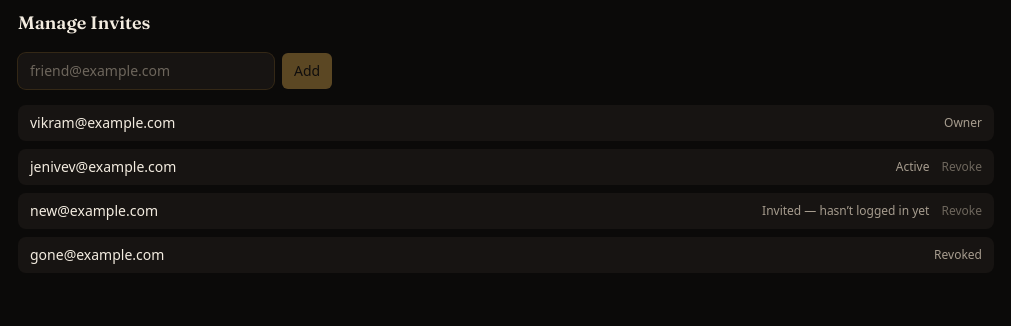
Test: ManageInvites › shows a resend message when Add targets an already-pending invite
Expected: the text "vikram@example.com" is shown, x1=30 y1=113 x2=175 y2=133
Type "new@example.com" into the field named "Email to invite" at (146, 71), box x1=18 y1=53 x2=274 y2=89
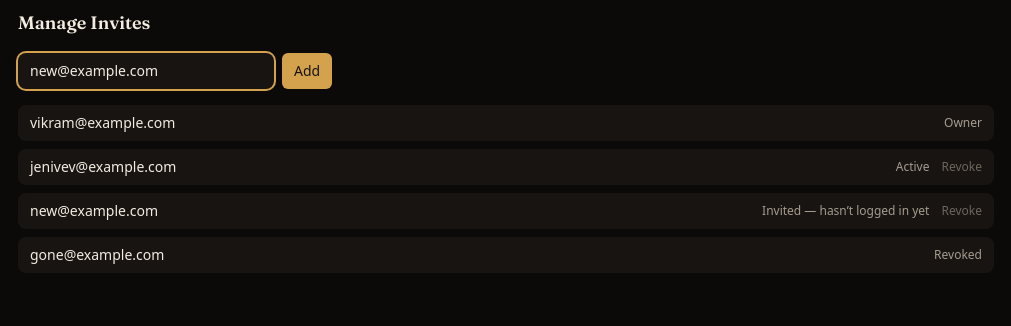
Click the button "Add" at (307, 71), box x1=282 y1=53 x2=332 y2=89
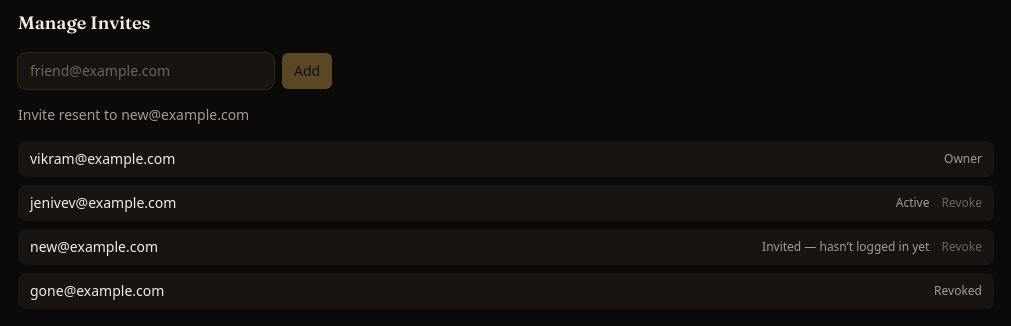
Now the text "Invite resent to new@example.com" is shown, box x1=18 y1=105 x2=249 y2=124
